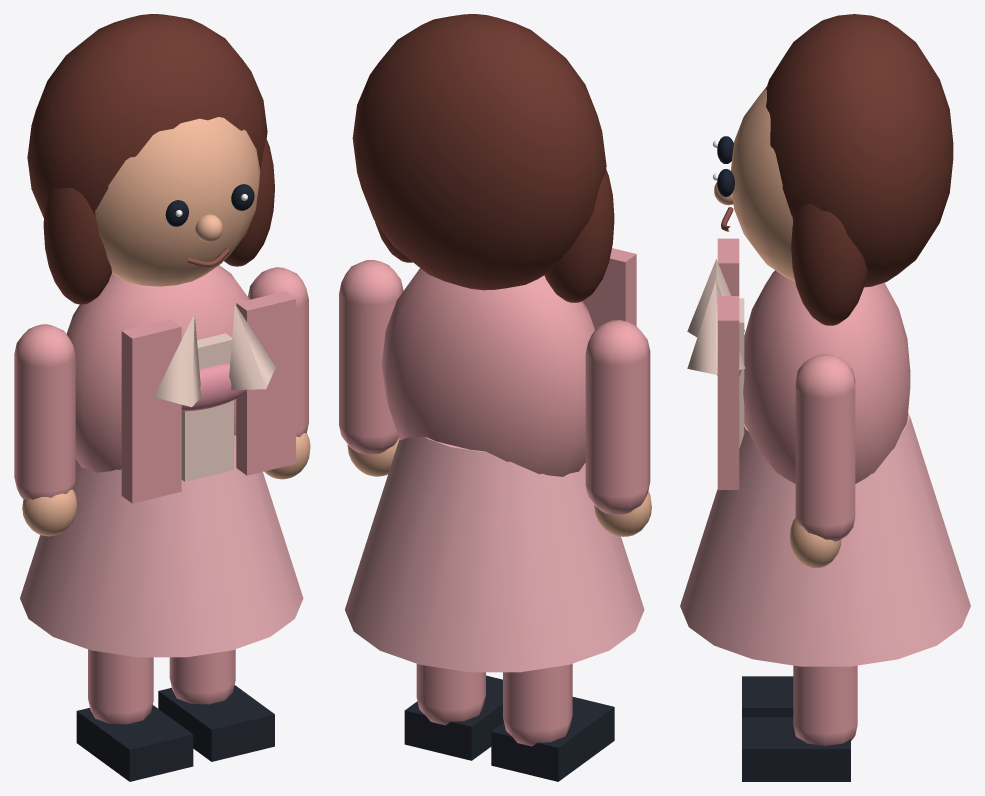
Rendered from profile-sally.glb.
3 renders of one model, left to right at view 1: azimuth 30°, elevation 25°; view 2: azimuth 150°, elevation 25°; view 3: azimuth 270°, elevation 25°, orthographic. The views are drawn at different scales.
Parts seen in each view (by area): view 1: pink-skirt, hair-back, face, jacket-panel (×2), tailored-torso, left-sleeve, hair-side (×2), left-shoe, right-shoe, lapel (×2), shirt-panel, left-leg-mesh (+6 smaller); view 2: hair-back, pink-skirt, tailored-torso, left-sleeve, right-sleeve, left-shoe, left-leg-mesh, hair-side, right-shoe, right-leg-mesh, jacket-panel, left-hand-mesh (+1 smaller); view 3: pink-skirt, hair-back, tailored-torso, right-sleeve, face, hair-side, right-shoe, jacket-panel (×2), right-leg-mesh, lapel (×2), left-shoe, right-hand-mesh (+1 smaller).
Boxes of the visible parts, x1,y1,x2,y2 form: pink-skirt: (20, 435, 303, 657); hair-back: (27, 14, 267, 217); face: (95, 117, 260, 286); jacket-panel (×2): (121, 291, 295, 503); tailored-torso: (66, 265, 249, 472); left-sleeve: (14, 324, 75, 499); hair-side (×2): (43, 139, 274, 304); left-shoe: (76, 705, 193, 781); right-shoe: (158, 685, 274, 761); lapel (×2): (154, 304, 275, 407); shirt-panel: (181, 333, 233, 481); left-leg-mesh: (88, 649, 153, 724); hair-back: (352, 14, 606, 290); pink-skirt: (345, 436, 644, 672); tailored-torso: (382, 268, 594, 476); left-sleeve: (585, 320, 650, 514); right-sleeve: (339, 260, 403, 454); left-shoe: (491, 697, 614, 781); left-leg-mesh: (503, 663, 572, 746); hair-side: (544, 169, 614, 302); right-shoe: (404, 675, 503, 760); right-leg-mesh: (416, 664, 485, 725); jacket-panel: (582, 248, 636, 329); left-hand-mesh: (594, 491, 651, 536); pink-skirt: (680, 412, 970, 666); hair-back: (766, 14, 953, 287); tailored-torso: (743, 270, 910, 483); right-sleeve: (795, 354, 855, 541); face: (731, 86, 795, 281); hair-side: (791, 204, 867, 325); right-shoe: (742, 717, 850, 781); jacket-panel (×2): (717, 238, 739, 489); right-leg-mesh: (793, 665, 857, 745); lapel (×2): (687, 259, 745, 374); left-shoe: (742, 676, 793, 717); right-hand-mesh: (790, 518, 841, 568).
Bounding box in the file's own units: 1.4 × 3.28 × 1.2.
